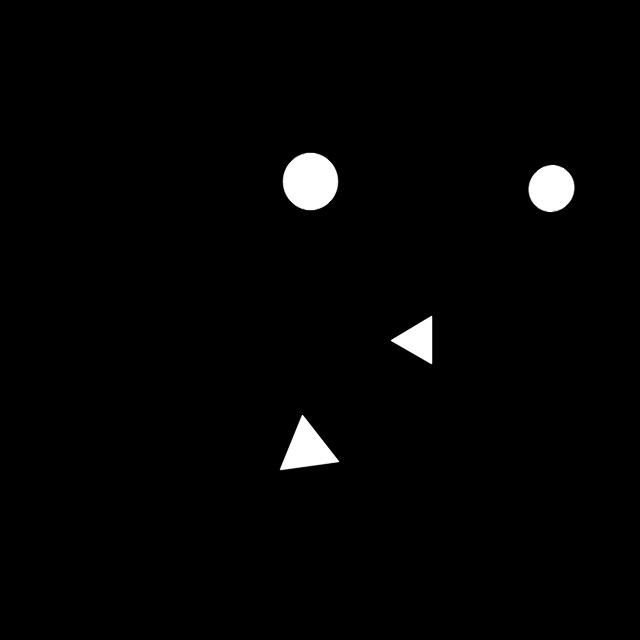Circle: (277, 143, 348, 221), (514, 157, 581, 221)
Triangle: (262, 407, 348, 488), (378, 297, 446, 378)
